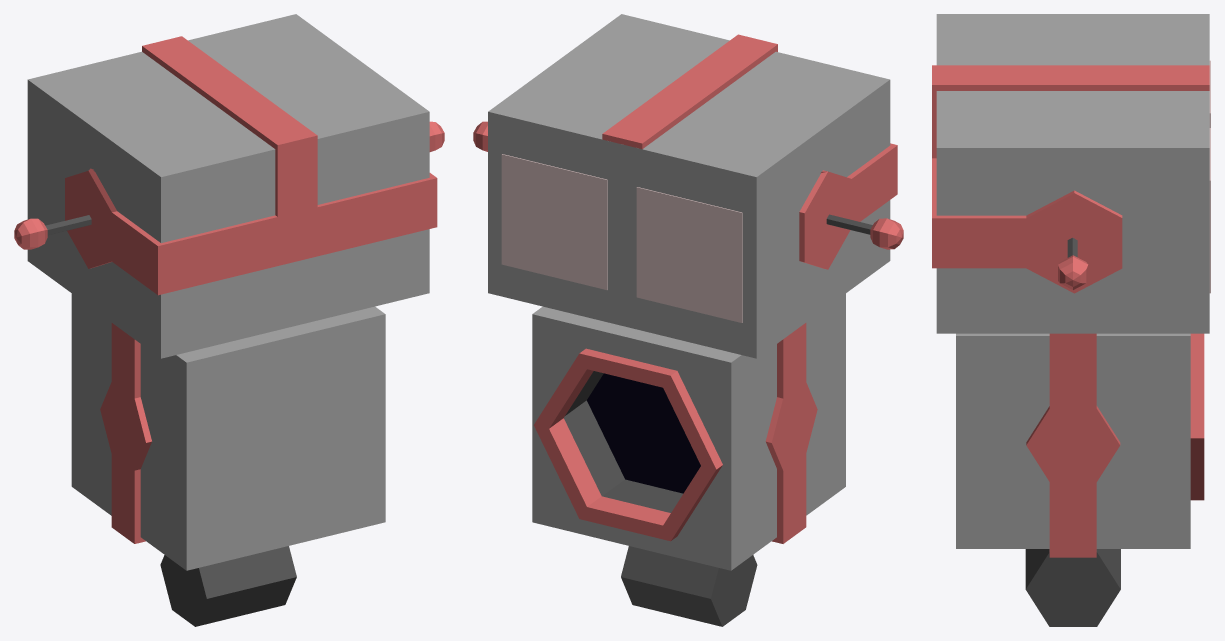
File: redStandardBot.fbx
3 views of the same model, side by side, from view 1: azimuth 30°, elevation 25°; view 2: azimuth 150°, elevation 25°; view 3: azimuth 270°, elevation 25° (orthographic). The views are drawn at different scales.
Parts seen in each view (by area): view 1: pCube2, polySurface2, pCylinder9, pCylinder8, pCylinder2, pSphere1; view 2: pCube2, polySurface2, pCylinder9, polySurface1, pasted__pCube5, pCube5, pCylinder8, pCylinder2, pSphere1; view 3: pCube2, polySurface2, pCylinder9, pCylinder2, pCylinder8, polySurface1, pasted__pSphere1.
Part boxes in pixels (<box>): pCube2: <box>27,14,429,358</box>; polySurface2: <box>71,293,385,570</box>; pCylinder9: <box>65,36,437,295</box>; pCylinder8: <box>160,546,296,626</box>; pCylinder2: <box>100,323,151,543</box>; pSphere1: <box>14,218,47,249</box>; pCube2: <box>488,14,890,358</box>; polySurface2: <box>532,293,845,570</box>; pCylinder9: <box>602,34,897,269</box>; polySurface1: <box>534,348,722,541</box>; pasted__pCube5: <box>501,154,607,289</box>; pCube5: <box>636,187,742,322</box>; pCylinder8: <box>621,546,757,626</box>; pCylinder2: <box>765,323,817,543</box>; pSphere1: <box>870,218,903,249</box>; pCube2: <box>936,14,1209,333</box>; polySurface2: <box>956,333,1190,548</box>; pCylinder9: <box>932,65,1209,293</box>; pCylinder2: <box>1026,333,1120,557</box>; pCylinder8: <box>1025,549,1120,626</box>; polySurface1: <box>1190,333,1204,500</box>; pasted__pSphere1: <box>1058,255,1088,289</box>.
Size of the model in its own units: 4.29 by 4.97 by 2.37.
